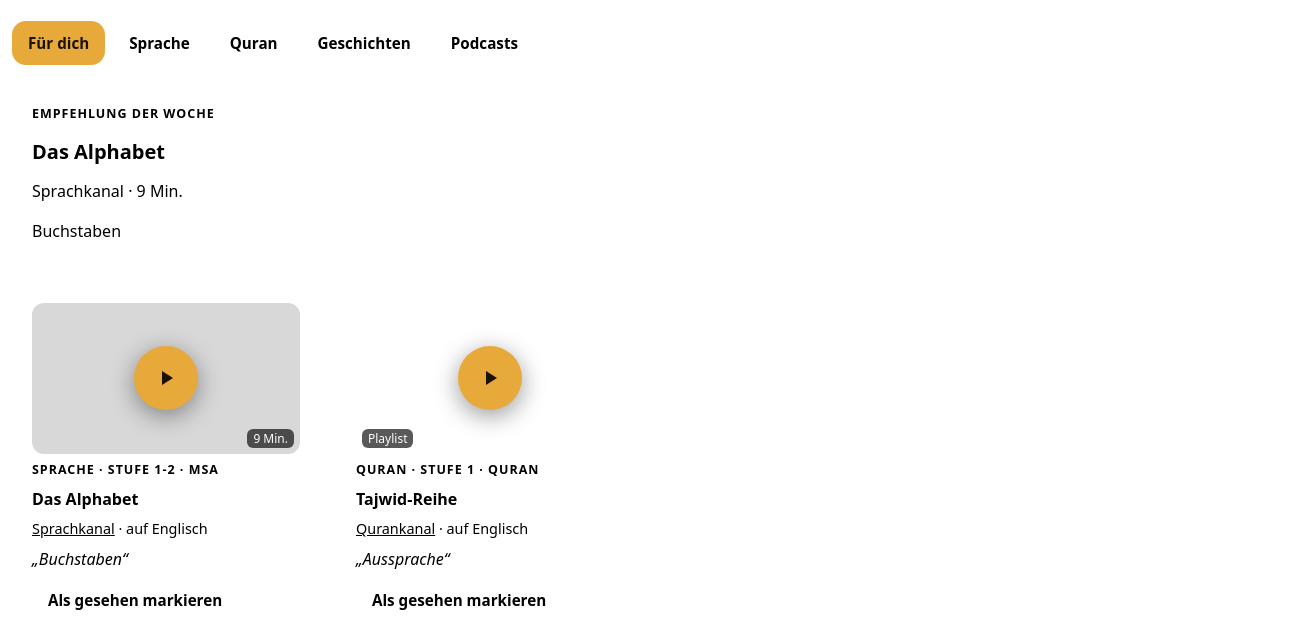
it: Entdecken (integration) › plays in one player on top and pins what was started at once
Click the button with aria-label "Das Alphabet abspielen" at (166, 378), box [32,303,300,454]
(page scrolled)
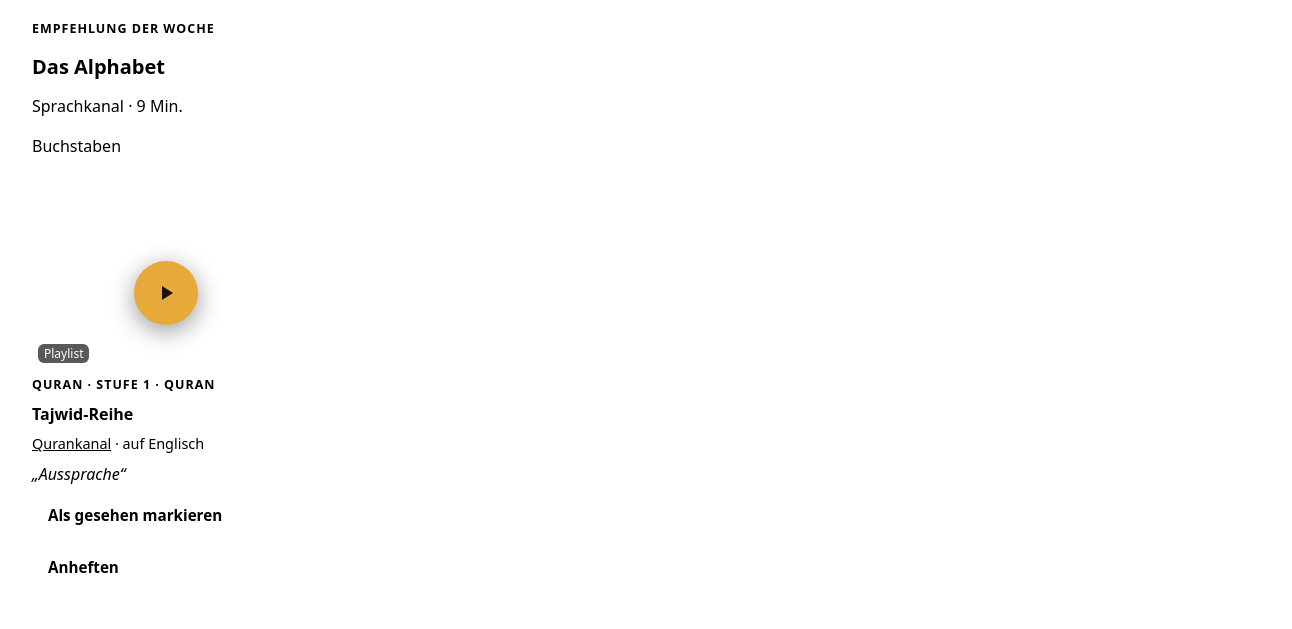
A second video replaces the first in the player and goes on top of "Weiterschauen".
Click the button with aria-label "Tajwid-Reihe abspielen" at (166, 293), box [32,218,300,369]
(page scrolled)
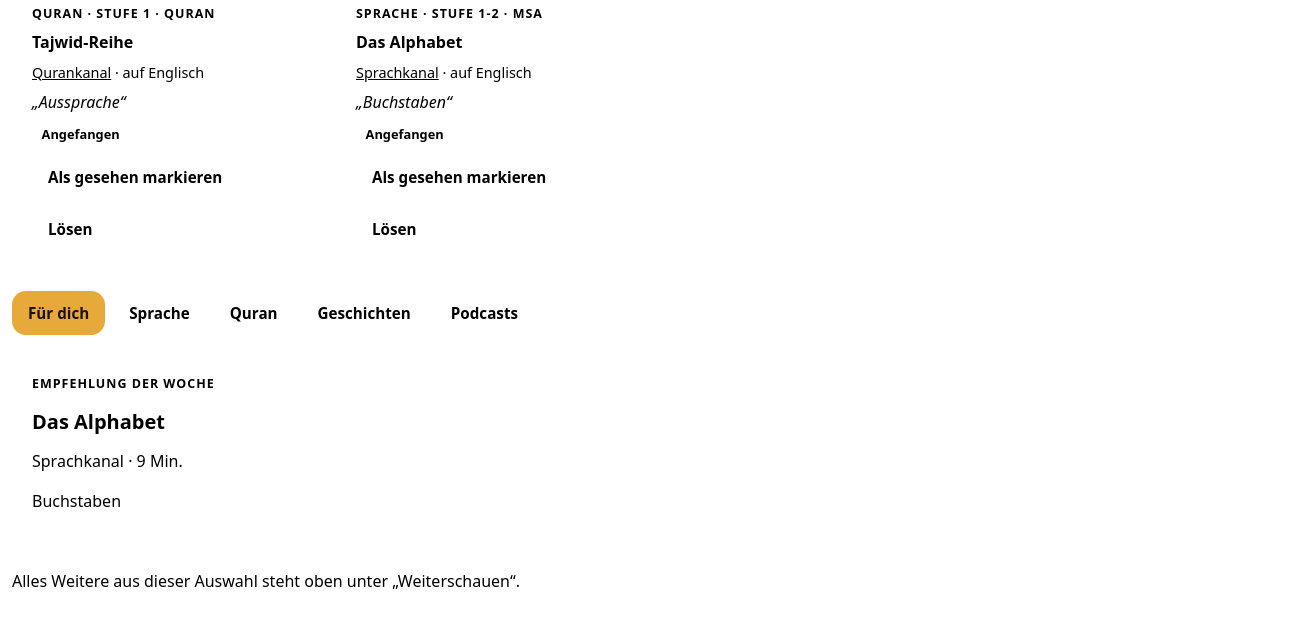
Check: the list "Empfehlungen" is gone
Check: the text "steht oben unter „Weiterschauen“" is shown, box [12,570,520,592]
